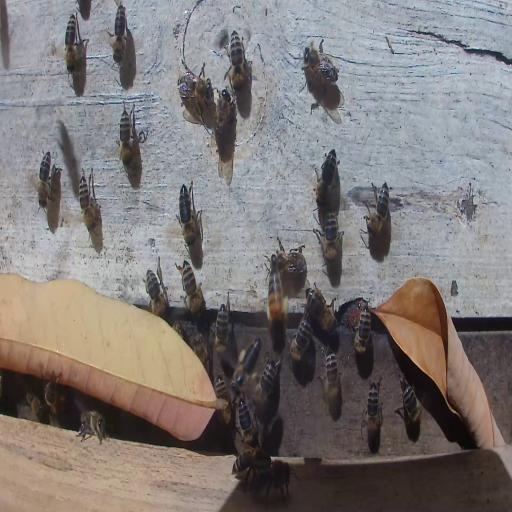nonpollenbee: (304, 283, 338, 337), (313, 208, 343, 264), (302, 44, 340, 88), (249, 460, 292, 498), (177, 178, 201, 246), (270, 244, 307, 286), (226, 28, 248, 97), (213, 88, 236, 154), (79, 171, 102, 237), (253, 356, 282, 408), (314, 146, 338, 208), (177, 259, 203, 316), (397, 376, 423, 433), (178, 66, 212, 108), (366, 179, 391, 236), (322, 349, 341, 418), (230, 448, 272, 478), (145, 260, 168, 314), (364, 375, 382, 442), (351, 300, 373, 353), (110, 3, 128, 67), (118, 106, 136, 170), (288, 314, 312, 362), (236, 398, 258, 446), (64, 12, 80, 76), (215, 303, 232, 363), (37, 150, 53, 210), (78, 411, 106, 443), (192, 332, 210, 371), (45, 378, 58, 423), (24, 392, 44, 420), (215, 373, 230, 409)
pollenbee: (263, 260, 291, 352), (231, 340, 262, 392)
